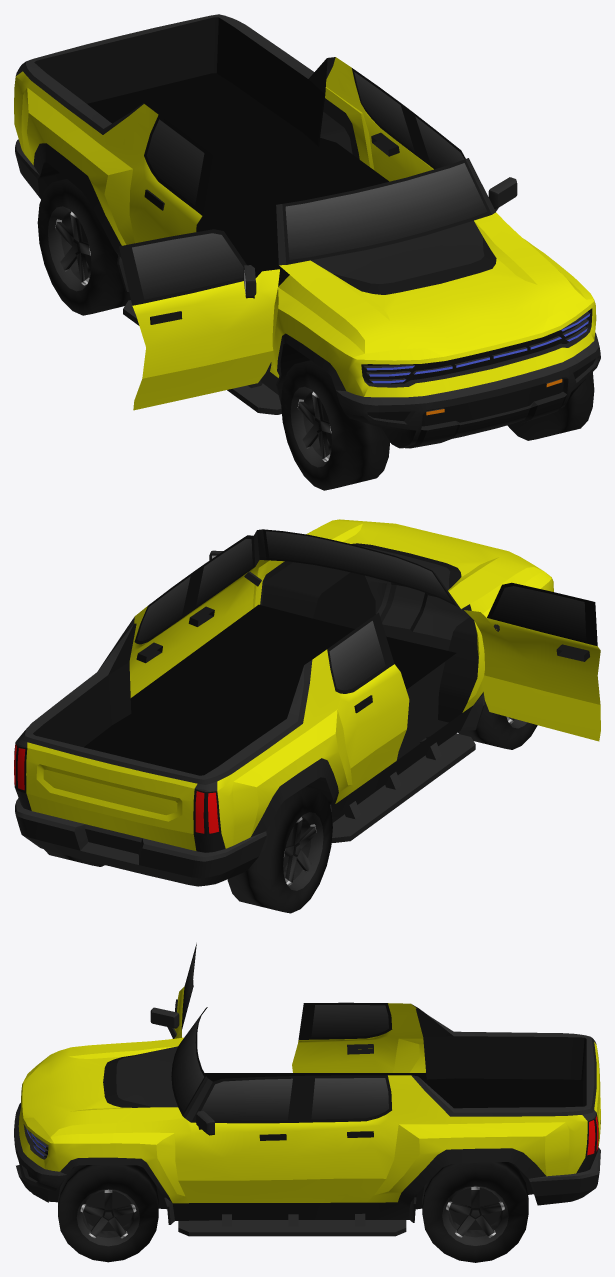
The model's file is car_mod.fbx.
The picture shows the model from 3 angles, top to bottom: view 1: azimuth 30°, elevation 25°; view 2: azimuth 150°, elevation 25°; view 3: azimuth 270°, elevation 25°; orthographic projection. The views are drawn at different scales.
Parts seen in each view (by area): view 1: polySurface6, polySurface4, CR_3_Wheel_FR, CR_2_Wheel_BR, CR_2_Wheel_FL; view 2: polySurface6, polySurface4, CR_2_Wheel_BR, CR_3_Wheel_FR; view 3: polySurface6, CR_2_Wheel_BL, CR_2_Wheel_FL, polySurface4.
Part boxes in pixels (box(x1,y1,x2,y2)): polySurface6: box(14, 14, 600, 448); polySurface4: box(119, 229, 279, 410); CR_3_Wheel_FR: box(281, 360, 390, 490); CR_2_Wheel_BR: box(37, 179, 130, 315); CR_2_Wheel_FL: box(507, 372, 594, 440); polySurface6: box(14, 519, 553, 886); polySurface4: box(464, 582, 600, 741); CR_2_Wheel_BR: box(227, 786, 332, 913); CR_3_Wheel_FR: box(458, 700, 537, 749); polySurface6: box(14, 1002, 600, 1236); CR_2_Wheel_BL: box(422, 1162, 528, 1262); CR_2_Wheel_FL: box(58, 1165, 158, 1262); polySurface4: box(150, 943, 196, 1038).
Size of the model in its own units: 328 by 179 by 536.
